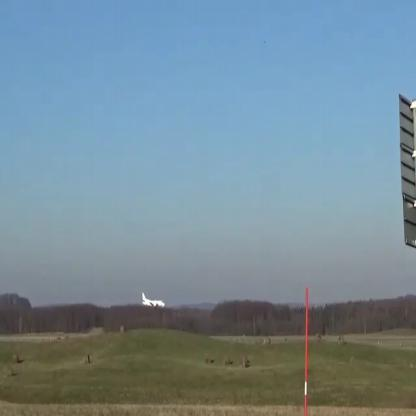CIV_Plane: (141, 292, 166, 308)
